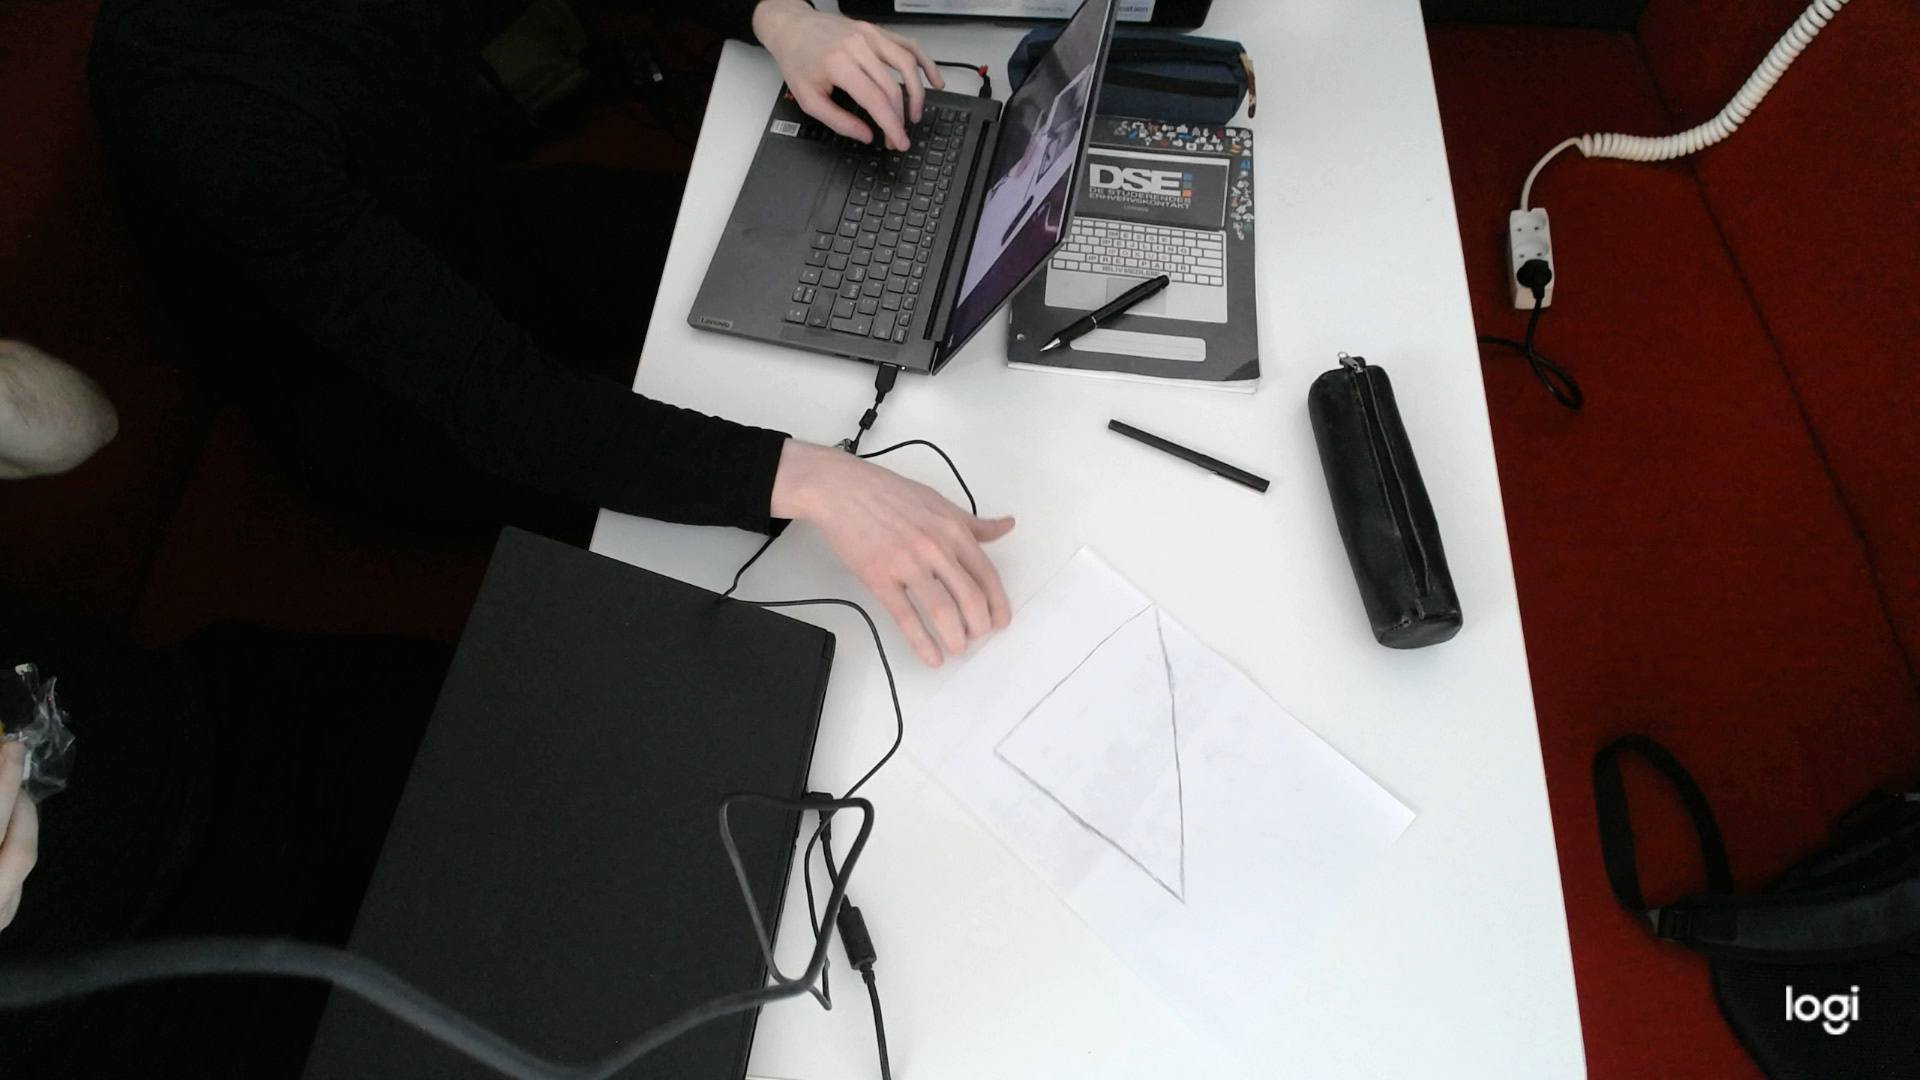Triangle: (988, 599, 1197, 907)
